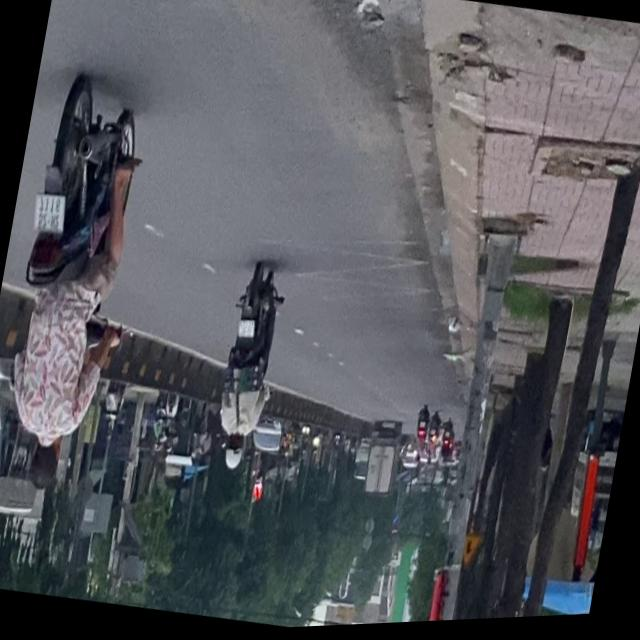helmet: (220, 436, 246, 474)
licenseplate: (0, 66, 161, 503), (205, 261, 292, 478)
motorcyclist: (22, 433, 64, 494)
nohelmet: (30, 194, 66, 235), (236, 321, 254, 343)
